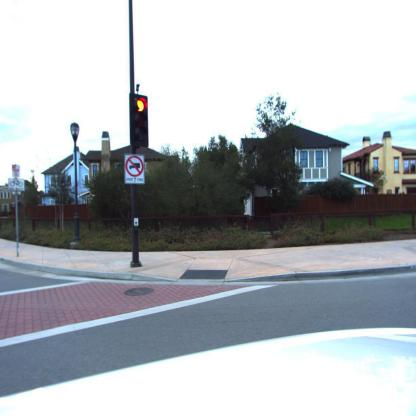sign: (128, 154, 145, 186)
traffic light: (131, 95, 150, 150)
